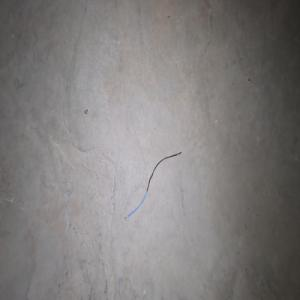Wire: (124, 151, 181, 219)
